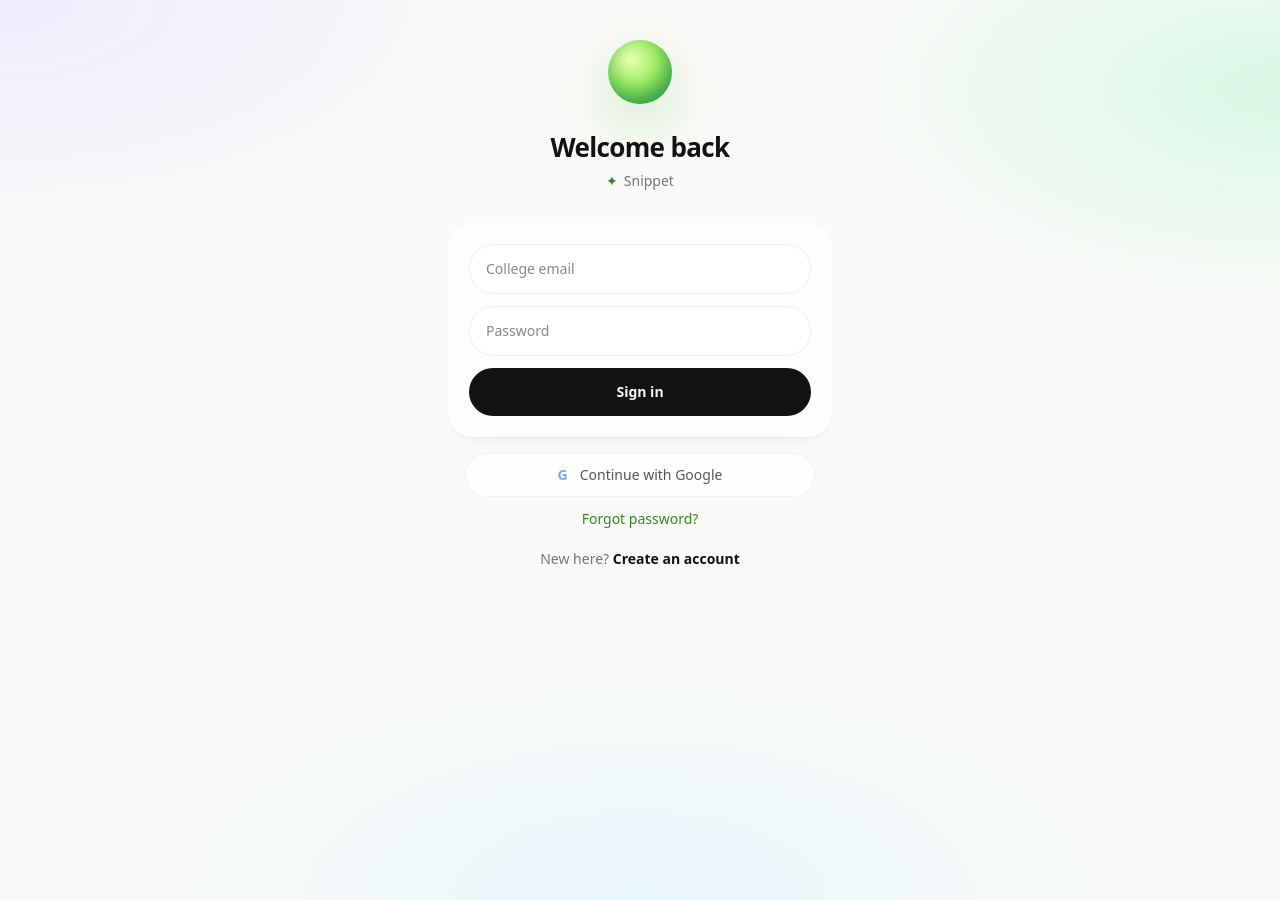
Test: AuthPage Login Error Handling › 2. Displays rate-limit message and disables submit button during cooldown on HTTP 429
This screenshot has width=1280, height=900.
Type "student@ustu.edu.in" into the field with placeholder "College email" at (640, 269), box [469,244,811,294]
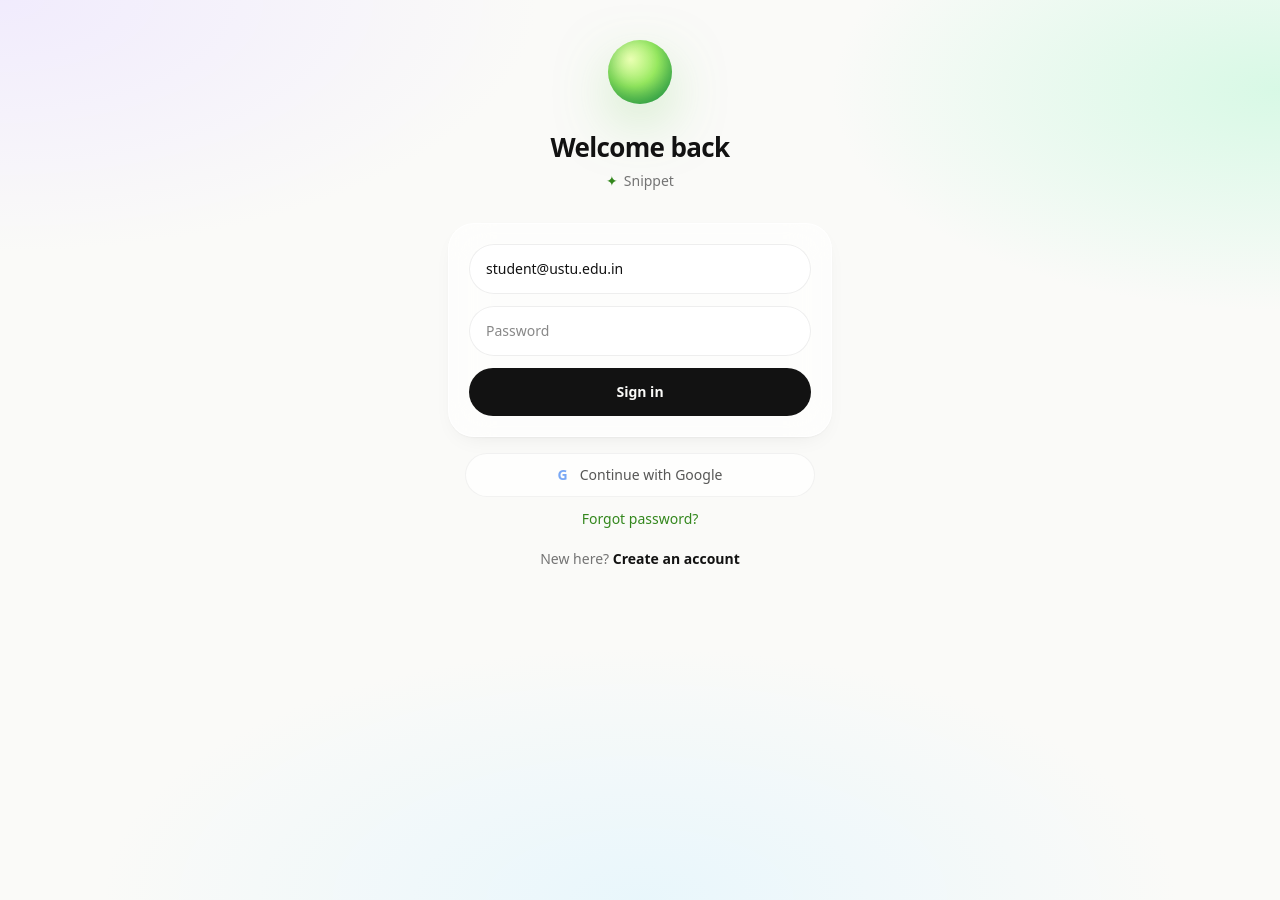
Type "secret123" into the password field with placeholder "Password" at (640, 331), box [469,306,811,356]
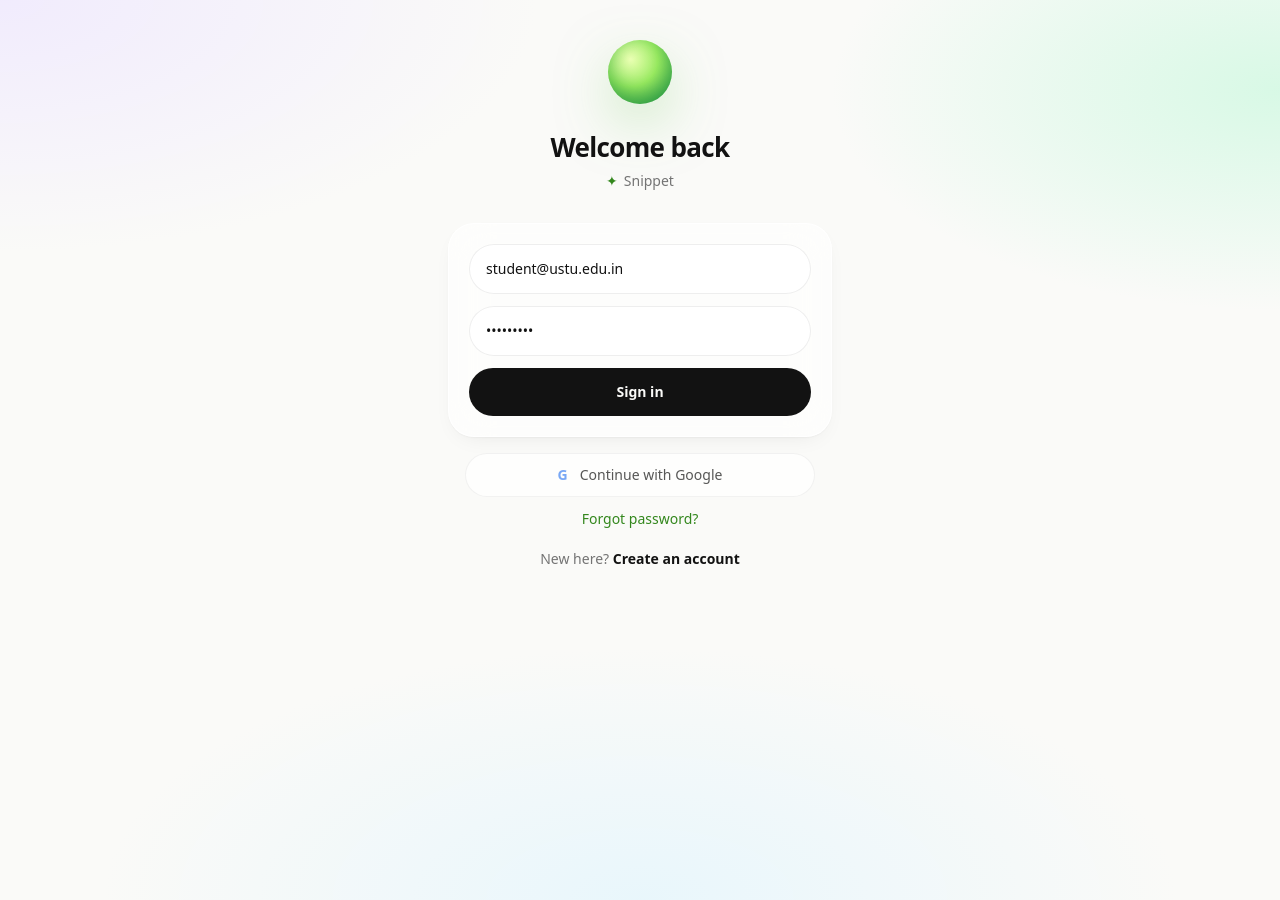
Click the button "Sign in" at (640, 392), box [469,368,811,416]
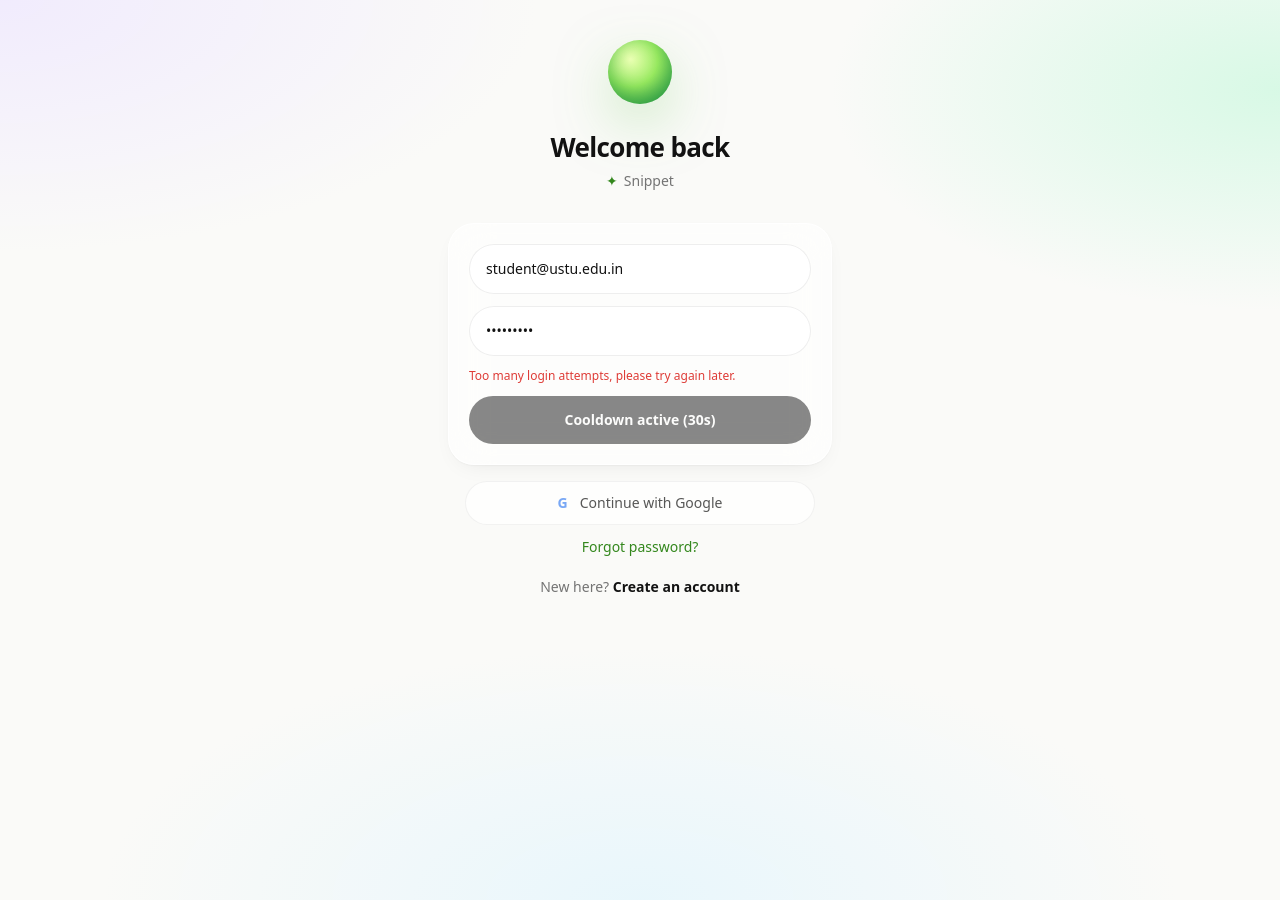
Now the text "Too many login attempts, please try again later." is shown, box [469,367,735,384]
Now the button "Cooldown active (30s)" is disabled, box [469,396,811,444]
Now the button "Cooldown active (30s)" is shown, box [469,396,811,444]
